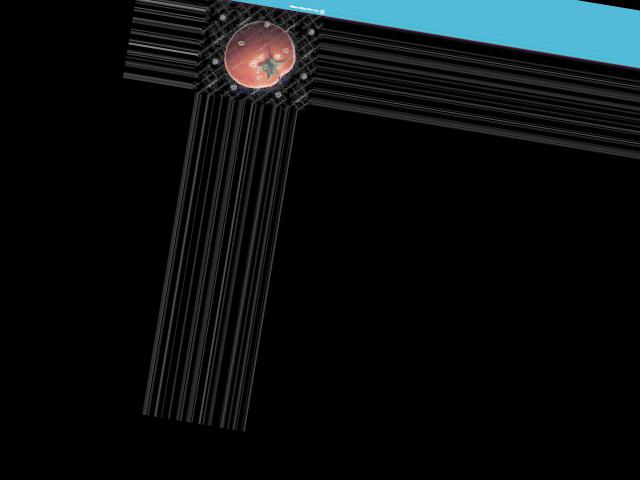tomato: (219, 16, 300, 93)
